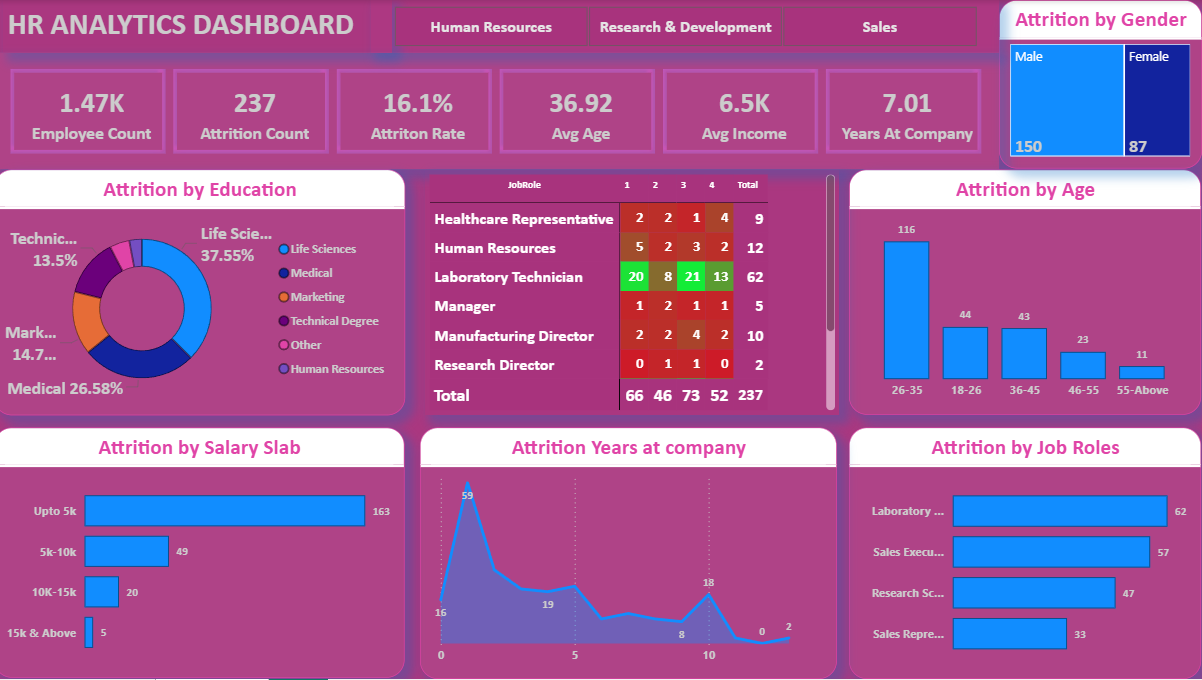

The page's visual inventory and layout, read from the dashboard file:
{"tool":"powerbi","page":{"name":"Page 1","canvas":[1280,720],"ordinal":0},"visuals":[{"type":"cardVisual","fields":{"Data":["CountNonNull(HR ANALYTICS.EmployeeCount)","Sum(HR ANALYTICS.Attrition Count)","HR ANALYTICS.Attriton Rate","Avg(HR ANALYTICS.Age)","Avg(HR ANALYTICS.MonthlyIncome)","Avg(HR ANALYTICS.YearsAtCompany)"]},"box":[0,55.7,1065.7,124.1],"z":0},{"type":"donutChart","title":"Attrition by Education","fields":{"Category":["HR ANALYTICS.EducationField"],"Y":["Sum(HR ANALYTICS.Attrition Count)"]},"box":[0,179.7,435.8,260.9],"z":1000},{"type":"pivotTable","fields":{"Rows":["HR ANALYTICS.JobRole"],"Columns":["HR ANALYTICS.JobSatisfaction"],"Values":["Sum(HR ANALYTICS.Attrition Count)"]},"box":[456.7,180,440,260],"z":2000},{"type":"columnChart","title":" Attrition by Age ","fields":{"Category":["HR ANALYTICS.Age Group"],"Y":["Sum(HR ANALYTICS.Attrition Count)"]},"box":[906.7,180,373.3,260],"z":3000},{"type":"barChart","title":" Attrition by Salary Slab ","fields":{"Category":["HR ANALYTICS.Salary Slab"],"Y":["Sum(HR ANALYTICS.Attrition Count)"]},"box":[0,453.3,435,265],"z":4000},{"type":"barChart","title":" Attrition by Job Roles","fields":{"Category":["HR ANALYTICS.JobRole"],"Y":["Sum(HR ANALYTICS.Attrition Count)"]},"box":[906.7,453.3,373.3,266.7],"z":5000},{"type":"areaChart","title":" Attrition Years at company ","fields":{"Category":["HR ANALYTICS.YearsAtCompany"],"Y":["Sum(HR ANALYTICS.Attrition Count)"]},"box":[451.7,453.3,441.7,266.7],"z":6000},{"type":"textbox","box":[9.5,0,412,55.7],"z":7000},{"type":"treemap","title":"Attrition by Gender","fields":{"Group":["HR ANALYTICS.Gender"],"Values":["Sum(HR ANALYTICS.Attrition Count)"]},"box":[1065,0,215,178.3],"z":8000},{"type":"slicer","fields":{"Values":["HR ANALYTICS.Department"]},"box":[399.2,0,666.5,55.7],"z":9000}]}

Visuals, with their boxes in screenshot pixels (x1, y1, x2, y2), scaled from the page's 1280x720 canvas onto the 1202x680 screenshot:
cardVisual - CountNonNull(HR ANALYTICS.EmployeeCount) x Sum(HR ANALYTICS.Attrition Count): (x1=0, y1=53, x2=1001, y2=170)
"Attrition by Education" donutChart: (x1=0, y1=170, x2=409, y2=416)
pivotTable - HR ANALYTICS.JobRole x HR ANALYTICS.JobSatisfaction: (x1=429, y1=170, x2=842, y2=416)
" Attrition by Age " columnChart: (x1=851, y1=170, x2=1201, y2=416)
" Attrition by Salary Slab " barChart: (x1=0, y1=428, x2=408, y2=678)
" Attrition by Job Roles" barChart: (x1=851, y1=428, x2=1201, y2=679)
" Attrition Years at company " areaChart: (x1=424, y1=428, x2=839, y2=679)
textbox: (x1=9, y1=0, x2=396, y2=53)
"Attrition by Gender" treemap: (x1=1000, y1=0, x2=1201, y2=168)
slicer - HR ANALYTICS.Department: (x1=375, y1=0, x2=1001, y2=53)
